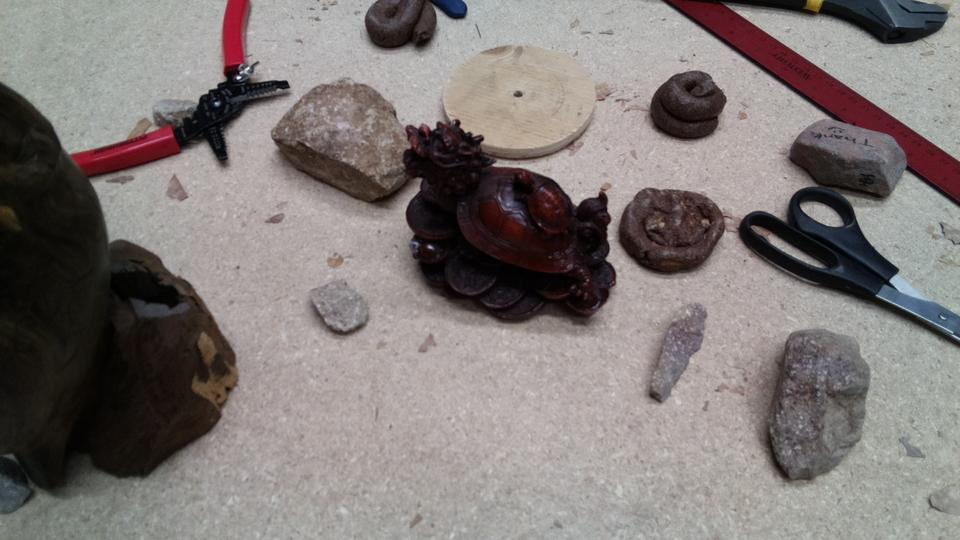poop: (615, 185, 724, 277), (645, 69, 728, 142), (362, 1, 443, 50)
